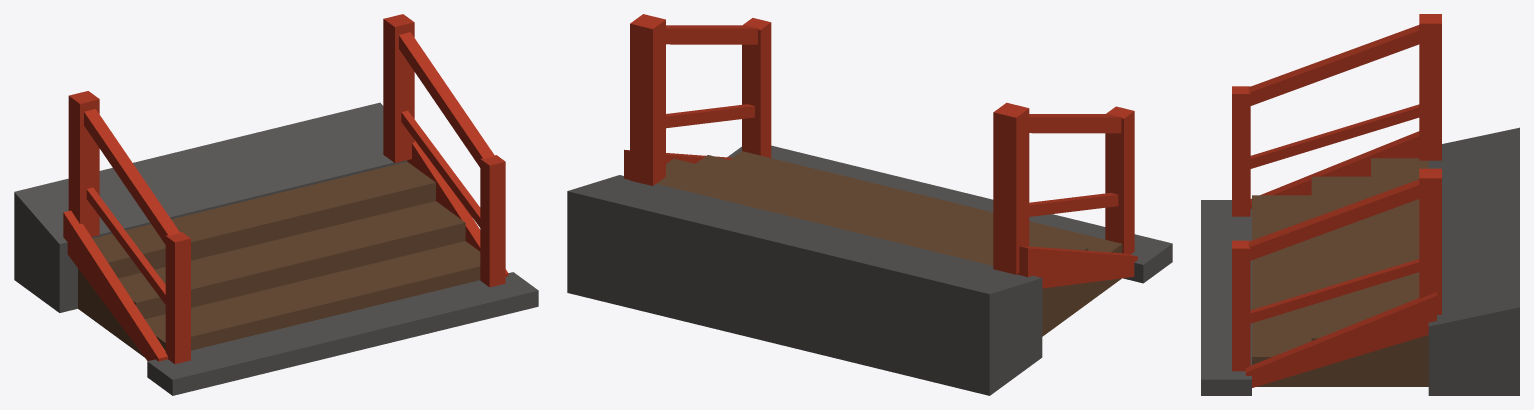
File: japan_kit16_moonbridge_end2.fbx
The picture shows the model from 3 angles, left to right: view 1: azimuth 30°, elevation 25°; view 2: azimuth 150°, elevation 25°; view 3: azimuth 270°, elevation 25°; orthographic projection. The views are drawn at different scales.
Visible parts, largest first — view 1: MB2_Wood, MB2_Stone, MB2_Red; view 2: MB2_Stone, MB2_Red, MB2_Wood; view 3: MB2_Red, MB2_Stone, MB2_Wood.
Boxes of the visible parts, x1,y1,x2,y2 form: MB2_Wood: [78, 161, 480, 357]; MB2_Stone: [14, 102, 538, 395]; MB2_Red: [63, 14, 508, 364]; MB2_Stone: [567, 145, 1172, 395]; MB2_Red: [624, 14, 1137, 288]; MB2_Wood: [656, 151, 1122, 336]; MB2_Red: [1232, 14, 1441, 387]; MB2_Stone: [1201, 127, 1519, 395]; MB2_Wood: [1252, 158, 1428, 386].
Bounding box in the file's own units: 10 × 5.45 × 7.5.
